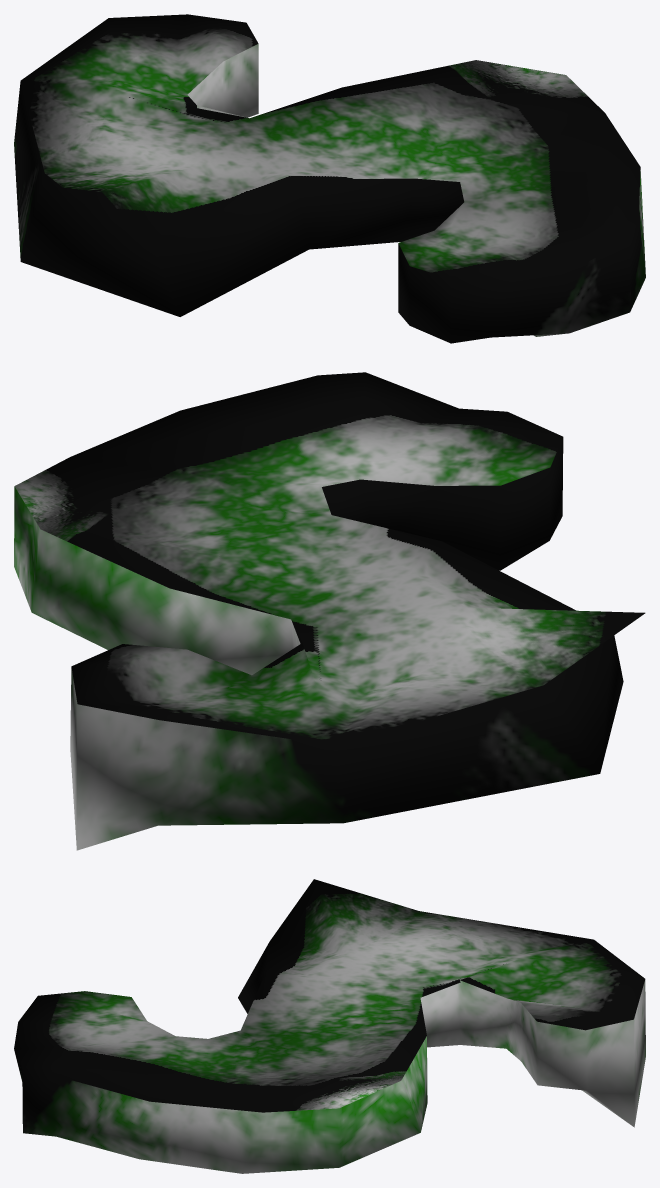
File: smooth1.fbx
The picture shows the model from 3 angles, top to bottom: view 1: azimuth 30°, elevation 25°; view 2: azimuth 150°, elevation 25°; view 3: azimuth 270°, elevation 25°; orthographic projection. The views are drawn at different scales.
Parts seen in each view (by area): view 1: Cube_000; view 2: Cube_000; view 3: Cube_000.
Boxes of the visible parts, x1=… form: Cube_000: x1=14, y1=14, x2=645, y2=343; Cube_000: x1=14, y1=372, x2=645, y2=850; Cube_000: x1=14, y1=879, x2=645, y2=1173.
Bounding box in the file's own units: 211 × 52.73 × 248.
